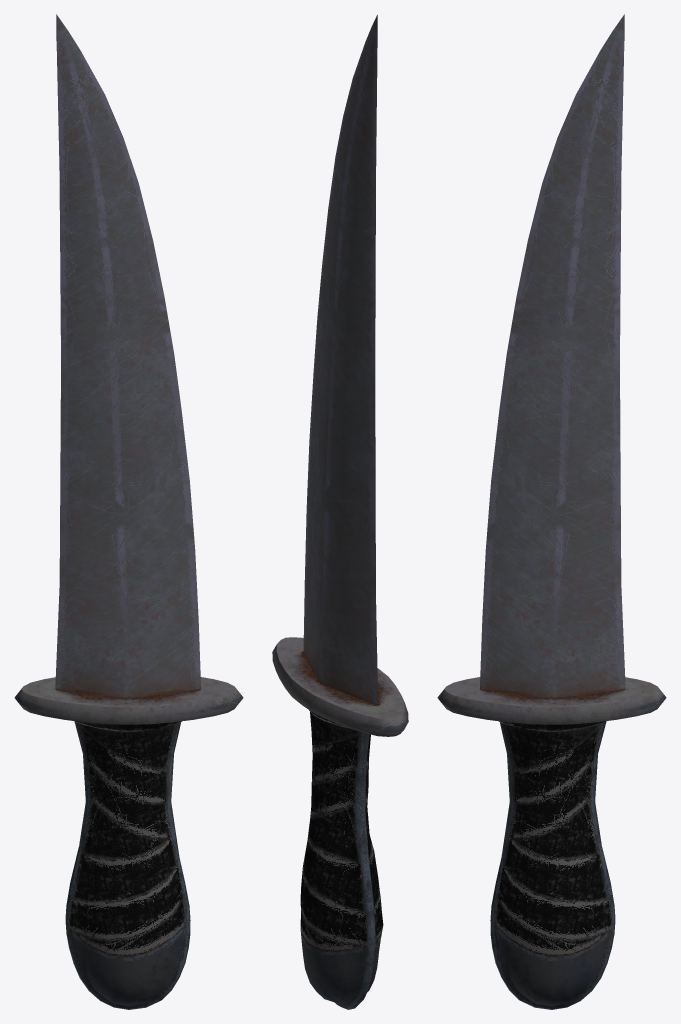
The model's file is bishou.FBX.
3 renders of one model, left to right at view 1: azimuth 90°, elevation 25°; view 2: azimuth 210°, elevation 25°; view 3: azimuth 270°, elevation 25°, orthographic. The views are drawn at different scales.
Visible parts, largest first — view 1: bishou, bishou_LOD; view 2: bishou, bishou_LOD; view 3: bishou, bishou_LOD.
Part boxes in pixels (x1,y1,x2,y2): bishou: (14,14,243,1009); bishou_LOD: (44,45,200,983); bishou: (272,14,408,1009); bishou_LOD: (286,42,395,993); bishou: (437,14,666,1009); bishou_LOD: (484,45,637,983).
Size of the model in its own units: 4.41 by 51.86 by 10.81.
Materials: 1 (1 with a texture image).
